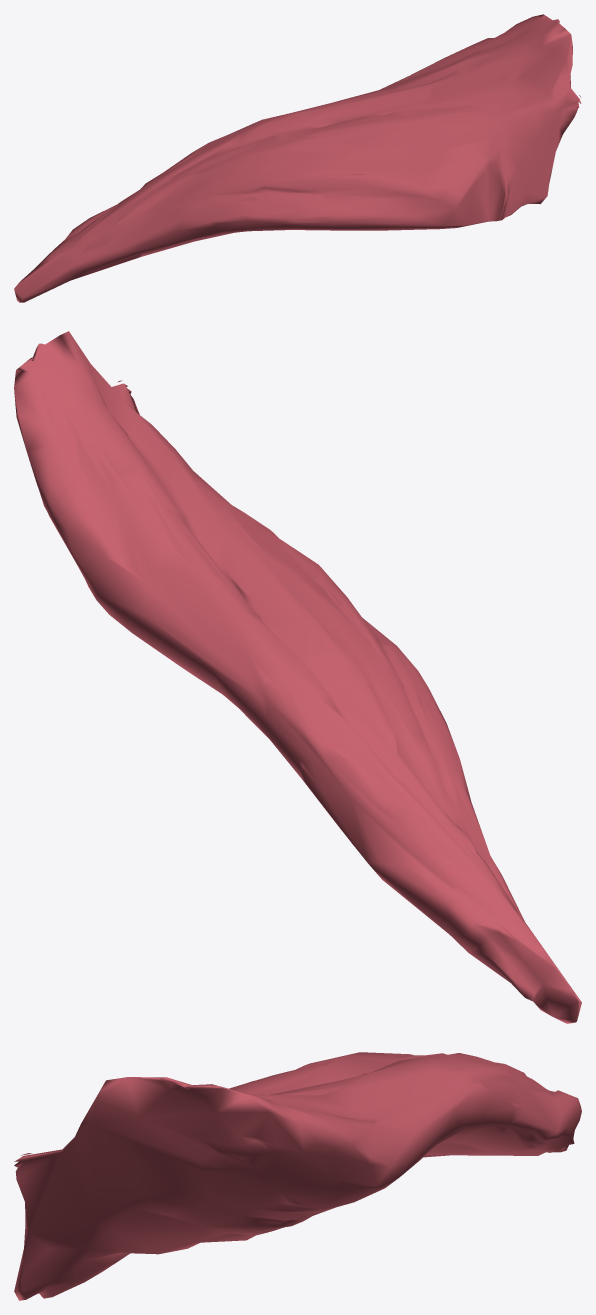
3 views of the same model, one above another, from view 1: azimuth 30°, elevation 25°; view 2: azimuth 150°, elevation 25°; view 3: azimuth 270°, elevation 25° (orthographic). The views are drawn at different scales.
Parts seen in each view (by area): view 1: 右侧梨状肌; view 2: 右侧梨状肌; view 3: 右侧梨状肌.
Part boxes in pixels (left/top/right/bottom): 右侧梨状肌: left=14, top=14, right=581, bottom=302; 右侧梨状肌: left=14, top=331, right=581, bottom=1023; 右侧梨状肌: left=14, top=1052, right=581, bottom=1300.
Bounding box in the file's own units: 0.162 × 0.0874 × 0.0929.
